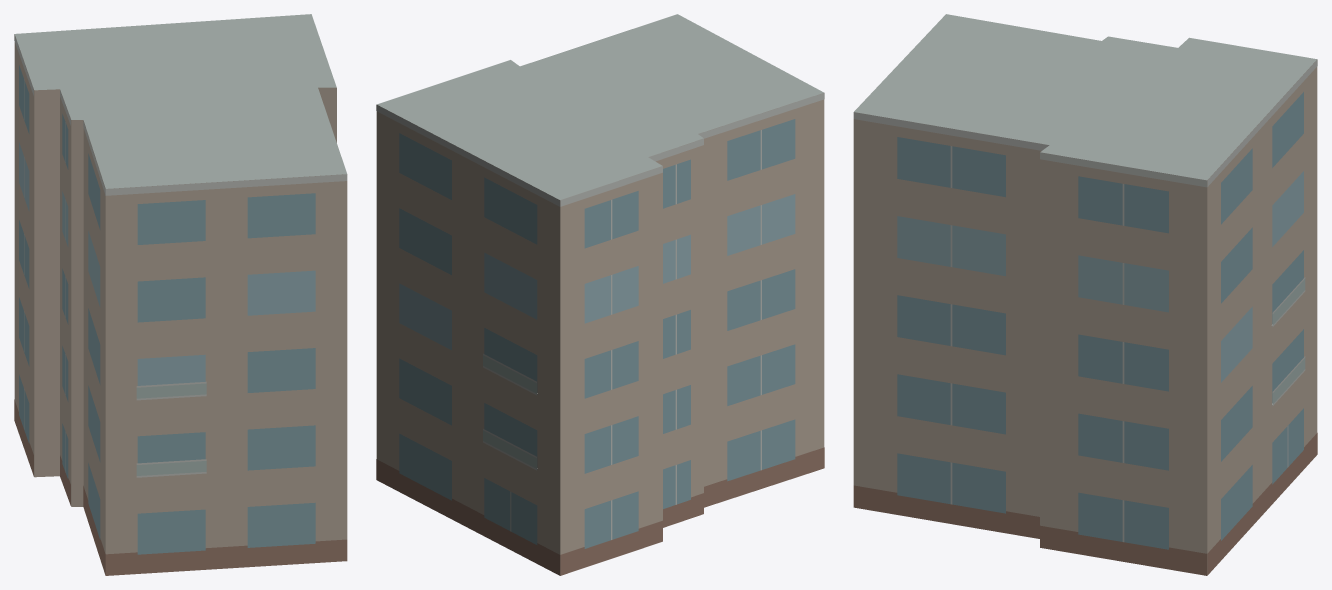
File: survey-upis-32751054.glb
3 renders of one model, left to right at view 1: azimuth 30°, elevation 25°; view 2: azimuth 150°, elevation 25°; view 3: azimuth 270°, elevation 25°, orthographic. The views are drawn at different scales.
Visible parts, largest first — view 1: survey-upis-32751054.tmp; view 2: survey-upis-32751054.tmp; view 3: survey-upis-32751054.tmp.
Part boxes in pixels (x1,y1,x2,y2): survey-upis-32751054.tmp: (14, 14, 347, 575); survey-upis-32751054.tmp: (376, 14, 824, 575); survey-upis-32751054.tmp: (853, 14, 1317, 575).
Size of the model in its own units: 12.37 by 13.7 by 14.57.
